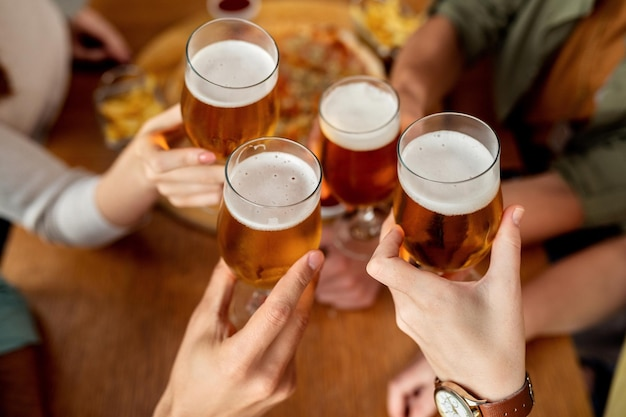alcohol: (214, 134, 324, 339), (397, 109, 503, 282), (180, 16, 281, 194), (316, 73, 401, 262)
